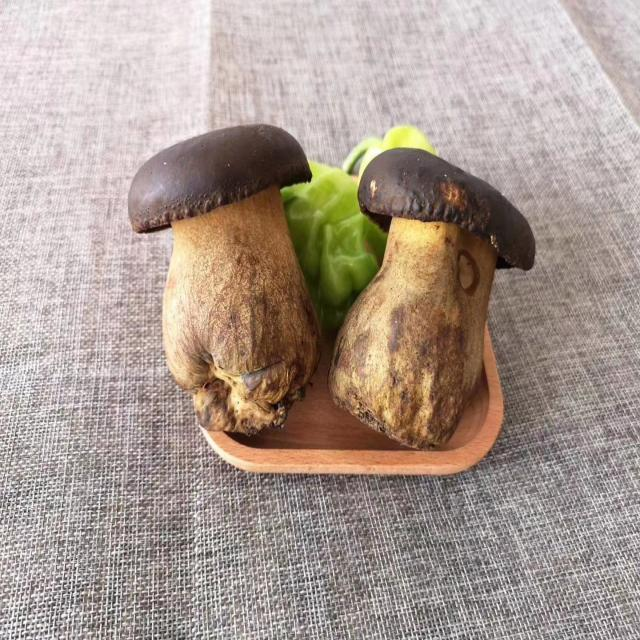Boletus: (333, 148, 533, 452), (127, 123, 314, 431)
